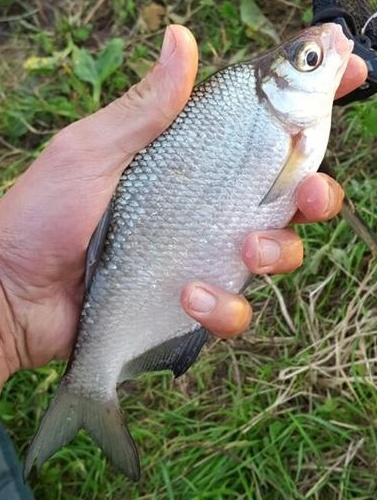Blicca bjoerkna: (20, 20, 357, 480)
